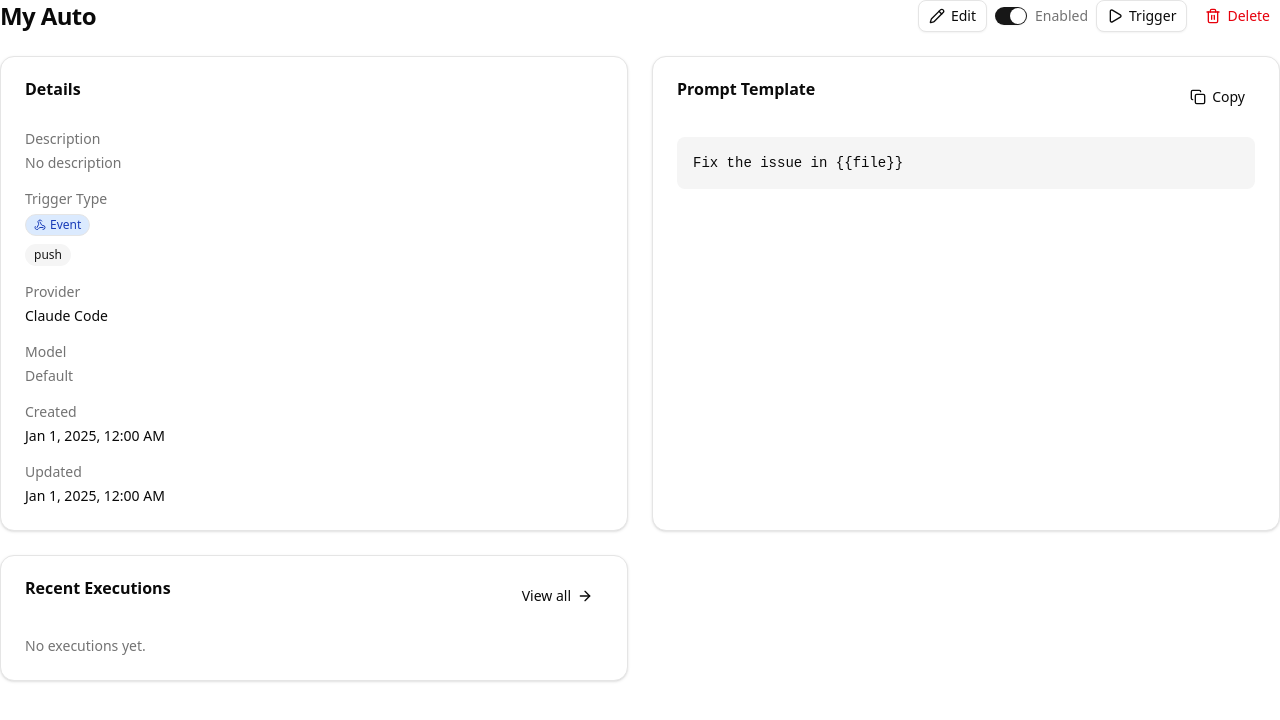
Test: AutomationDetailPage › should close disable dialog after confirming disable
Expected: the heading "My Auto" is shown, x1=0 y1=0 x2=96 y2=32
Click the switch named "disable automation".
click(1011, 16)  # box x1=995 y1=7 x2=1027 y2=25
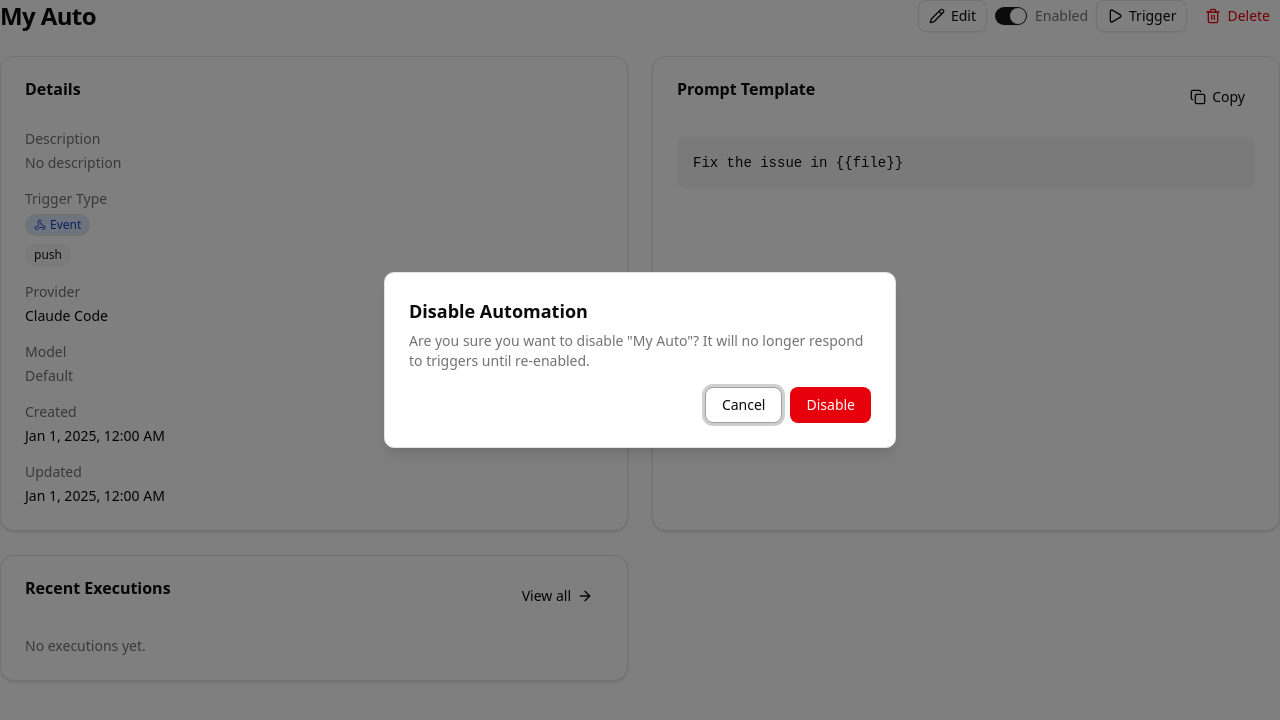
Now the heading "Disable Automation" is shown, box x1=409 y1=297 x2=588 y2=325
Click the button "Disable".
click(831, 405)  # box x1=790 y1=387 x2=871 y2=423
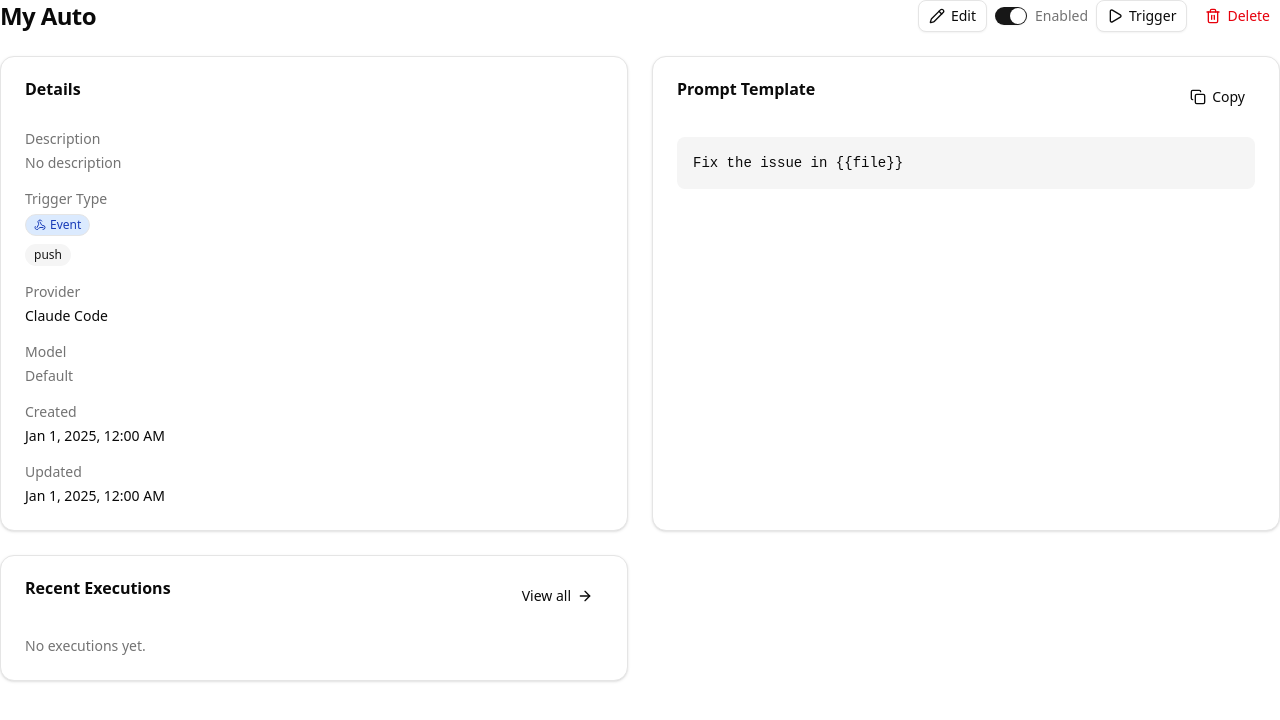
Now the heading "Disable Automation" is gone
